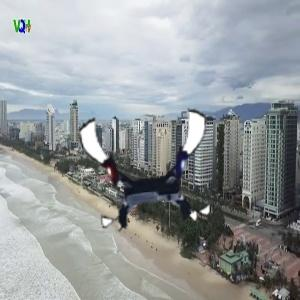drone: (80, 103, 213, 236)
